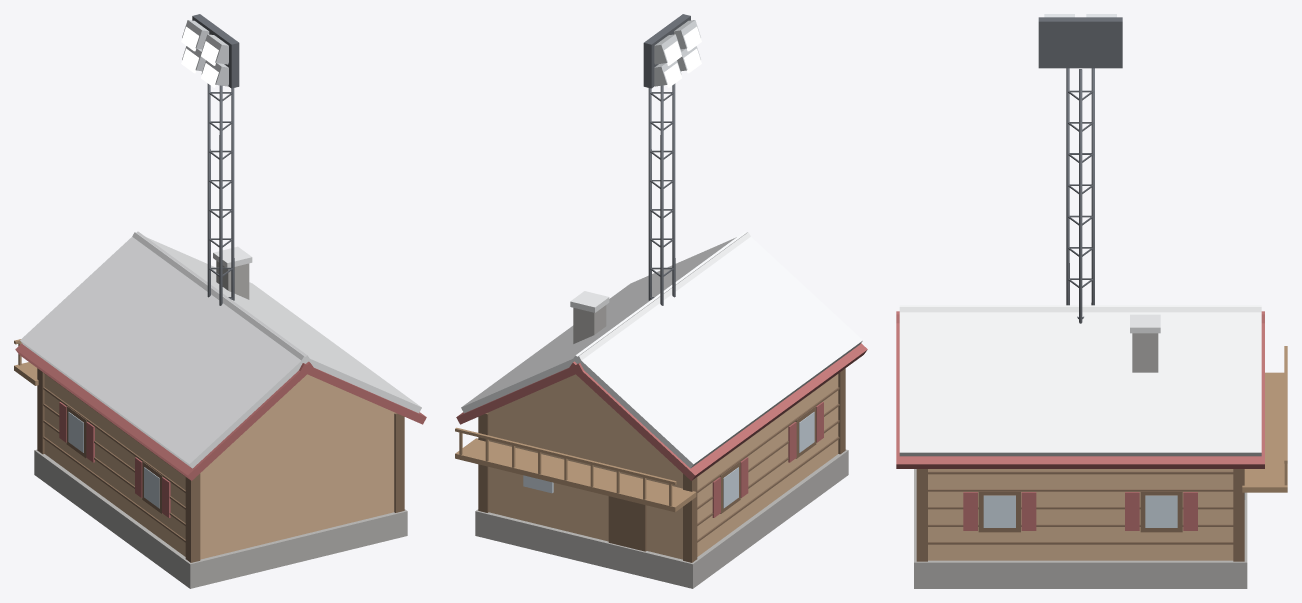
The model's file is props.glb.
The picture shows the model from 3 angles, left to right: view 1: azimuth 30°, elevation 25°; view 2: azimuth 150°, elevation 25°; view 3: azimuth 270°, elevation 25°; orthographic projection. The views are drawn at different scales.
Parts seen in each view (by area): view 1: chalet, floodlight; view 2: chalet, floodlight; view 3: chalet, floodlight.
Part boxes in pixels (x1,y1,x2,y2): chalet: (14, 231, 426, 588); floodlight: (181, 14, 239, 305); chalet: (455, 231, 867, 588); floodlight: (643, 14, 701, 305); chalet: (896, 305, 1287, 588); floodlight: (1038, 14, 1122, 323).
Size of the model in its own units: 9.12 by 17.5 by 12.1.
